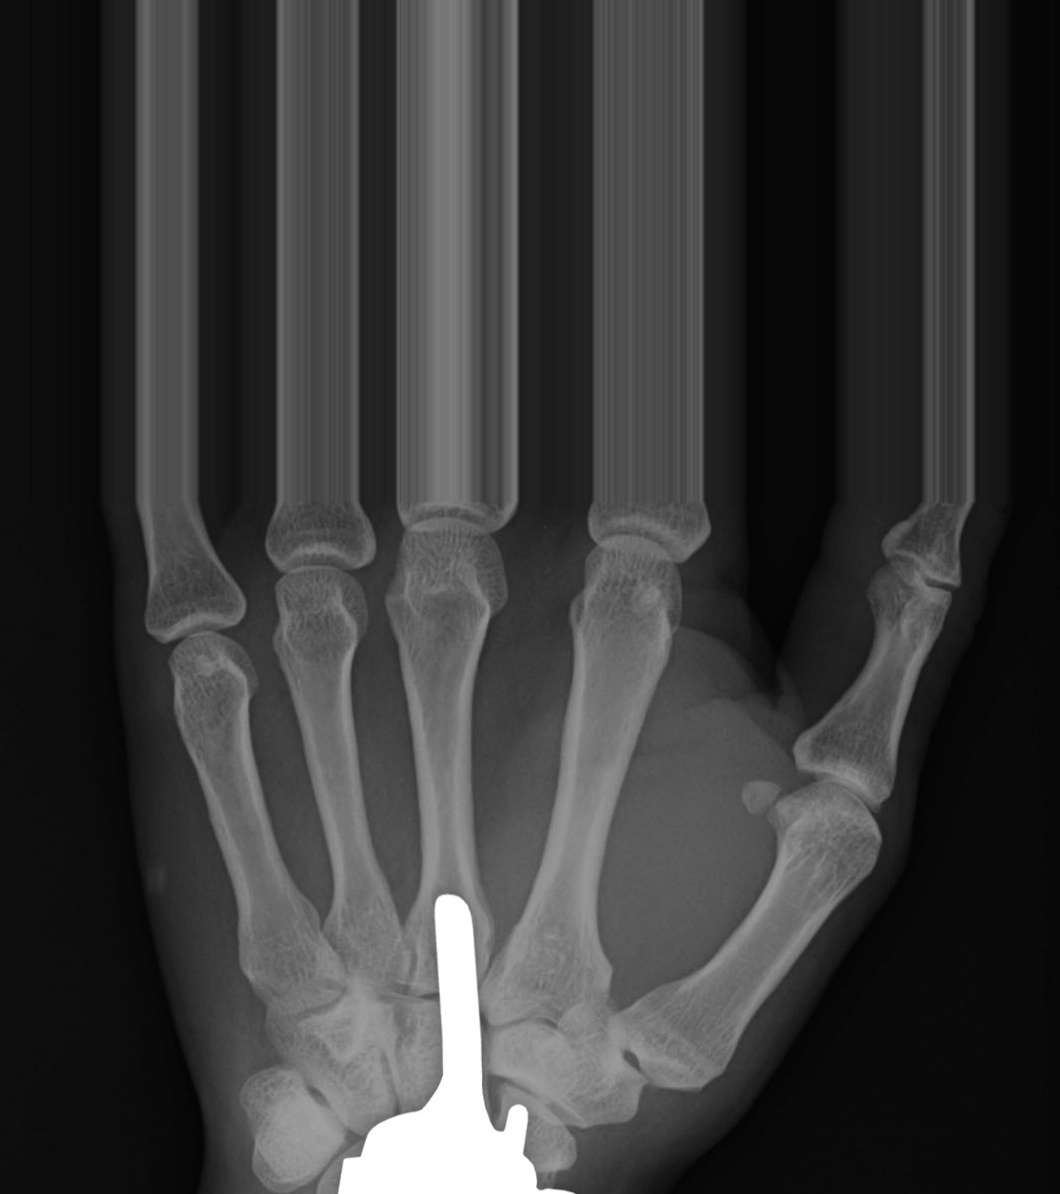Wrist-Biax-DePuuy: (330, 879, 611, 1194)
